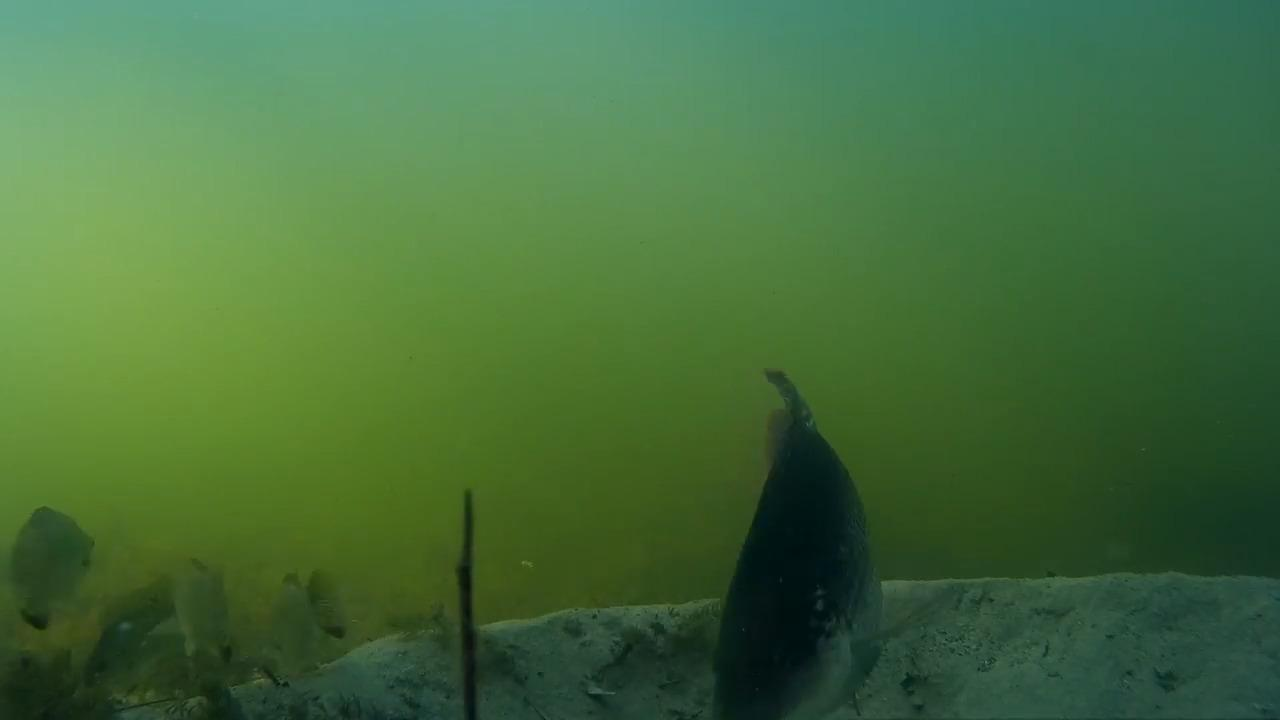Tilapia: (693, 348, 974, 720), (2, 504, 109, 664)
